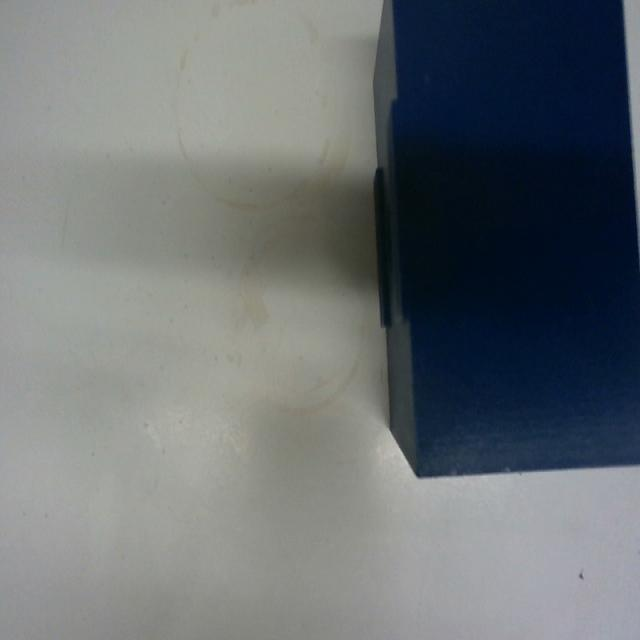Blue Cuboid: (369, 0, 639, 480)
